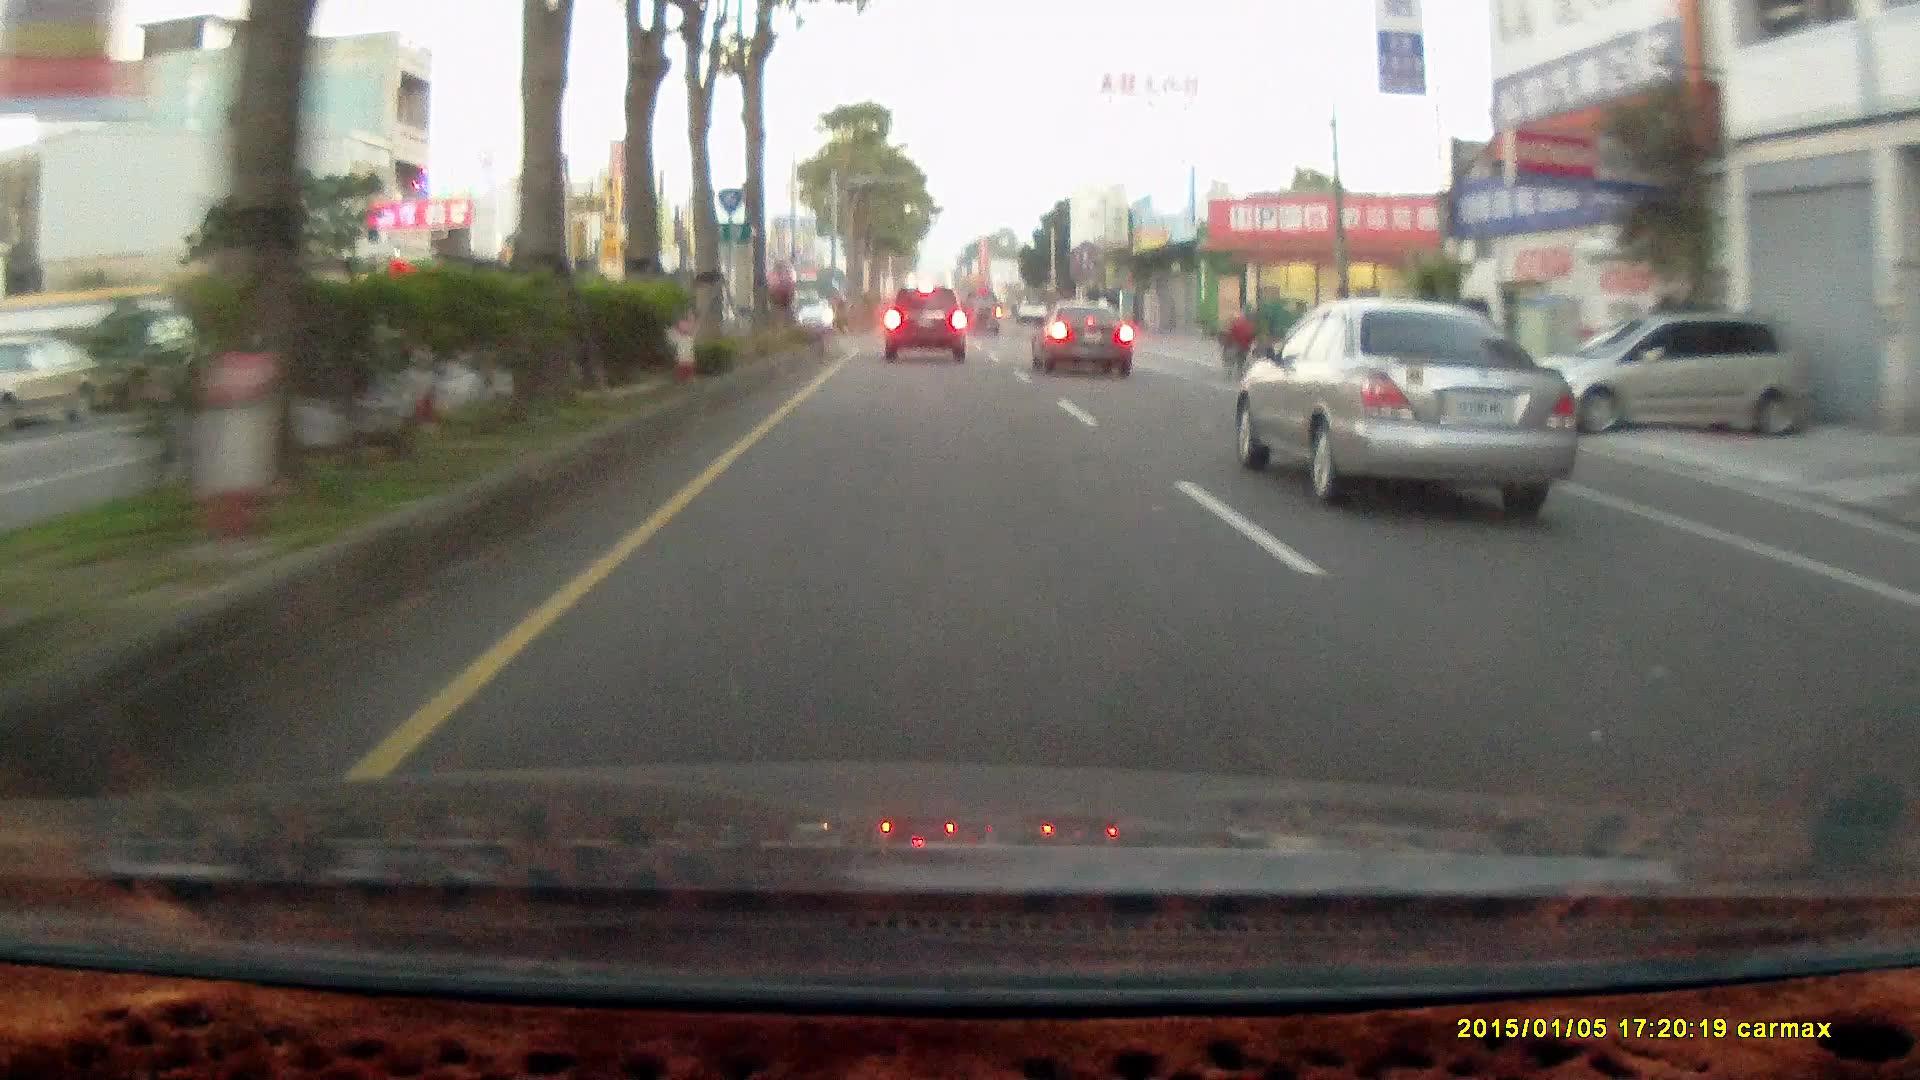pedestrian: (1227, 308, 1255, 382), (1232, 301, 1257, 369)
vehicle: (1238, 296, 1574, 505), (1530, 303, 1807, 434), (1539, 305, 1810, 435), (76, 306, 203, 409), (0, 329, 96, 427), (1032, 297, 1137, 377), (1029, 290, 1131, 368), (882, 277, 970, 358), (884, 285, 965, 360), (769, 279, 832, 335), (959, 286, 1000, 332)
